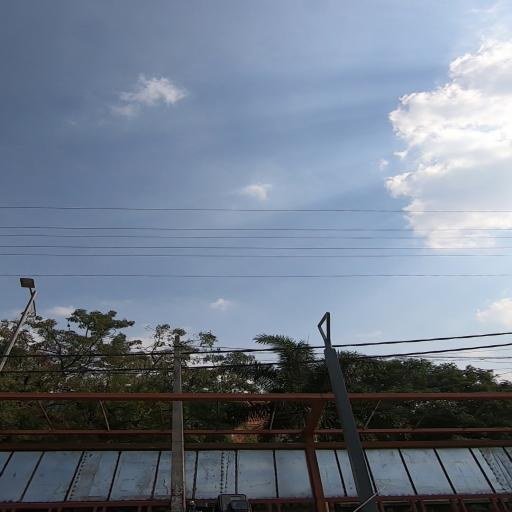Street_light: (16, 275, 47, 308)
